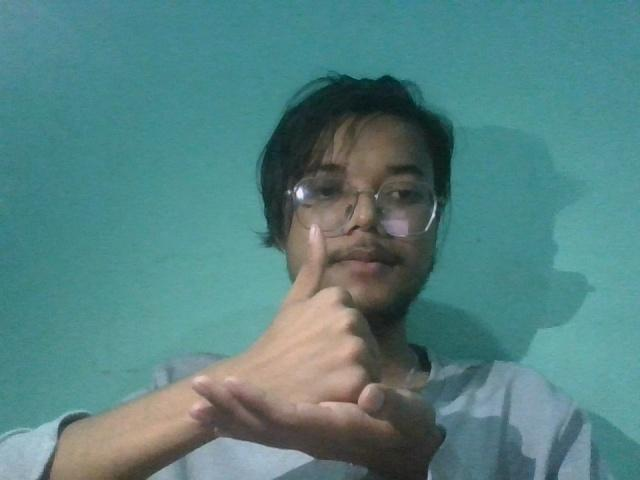help: (182, 220, 464, 460)
